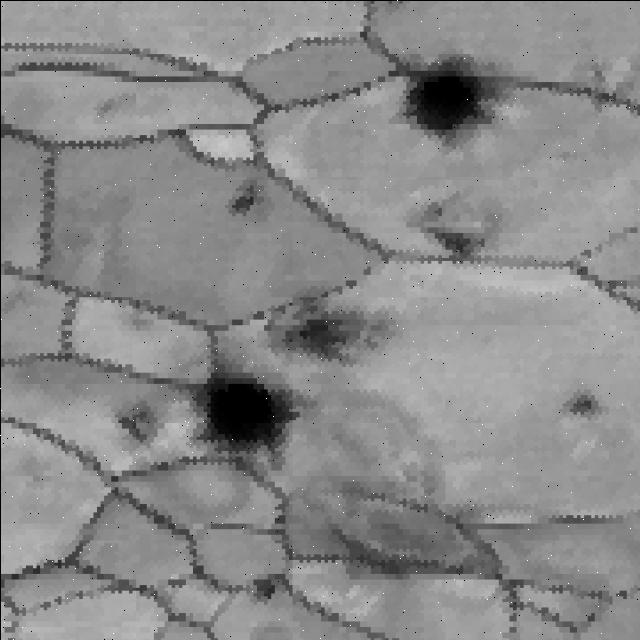good_void: (295, 479, 469, 584), (261, 289, 369, 365), (201, 367, 288, 450), (405, 62, 483, 132), (204, 176, 278, 232), (571, 63, 639, 119), (424, 223, 485, 249), (119, 403, 153, 444), (561, 388, 598, 414), (245, 571, 273, 597), (424, 200, 449, 221)
